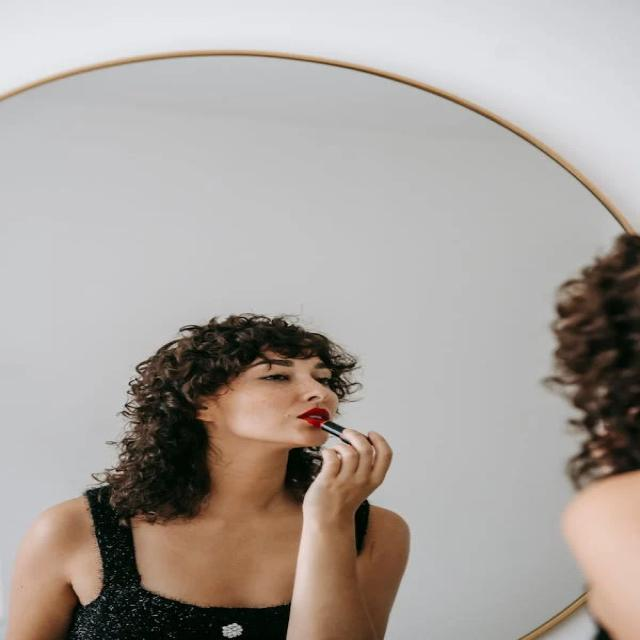Real human 2: (26, 299, 461, 640)
